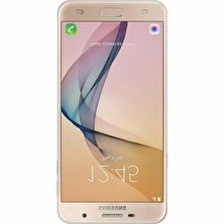phone: (52, 0, 170, 224)
